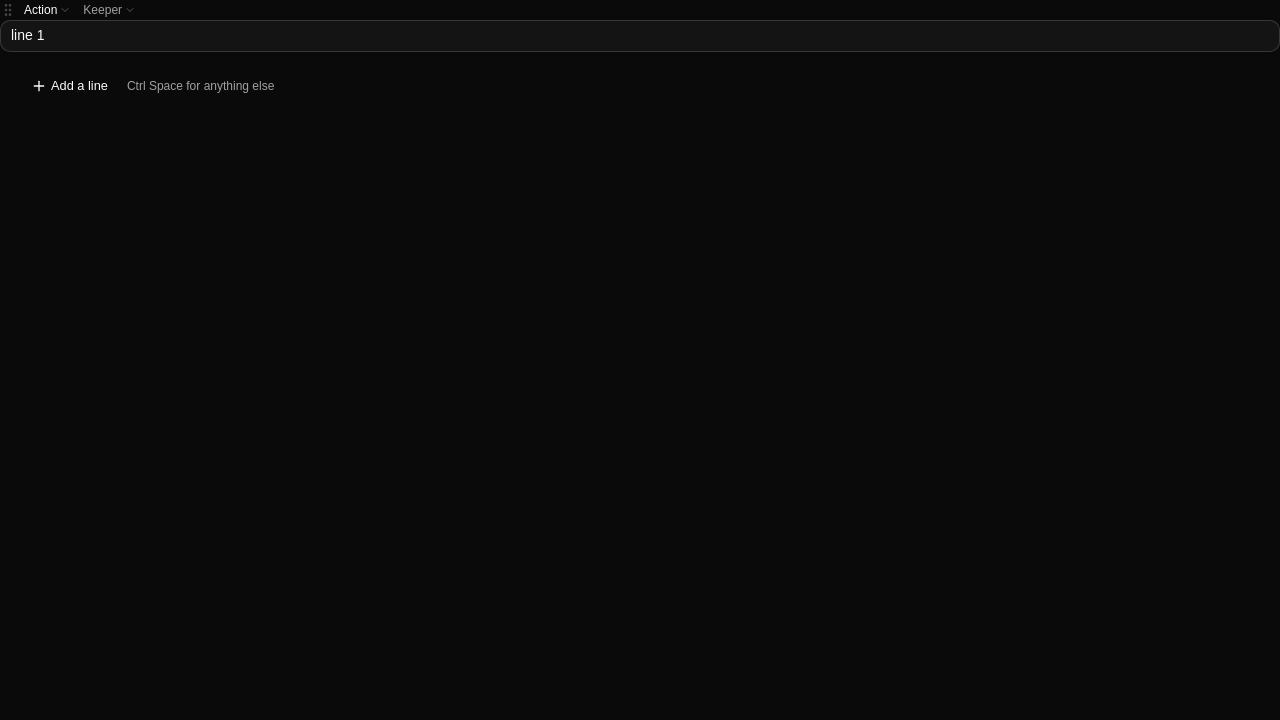
Test: ShotLines › offers every type by the same name it reads by
The width and height of the screenshot is (1280, 720).
Click the button with aria-label "What line 1 is" at (48, 10), box left=20, top=0, right=75, bottom=20
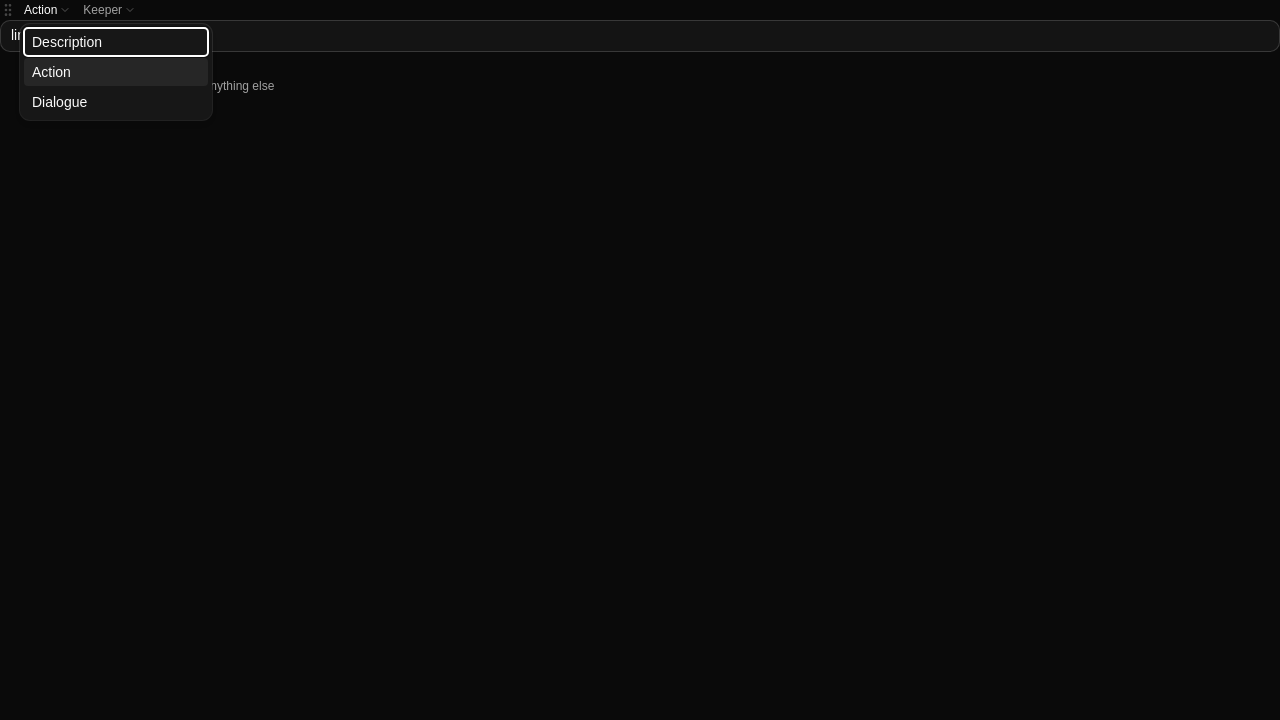
Result: the button "Description" is shown at left=24, top=28, right=208, bottom=56
Result: the 2nd button "Action" is shown at left=24, top=58, right=208, bottom=86
